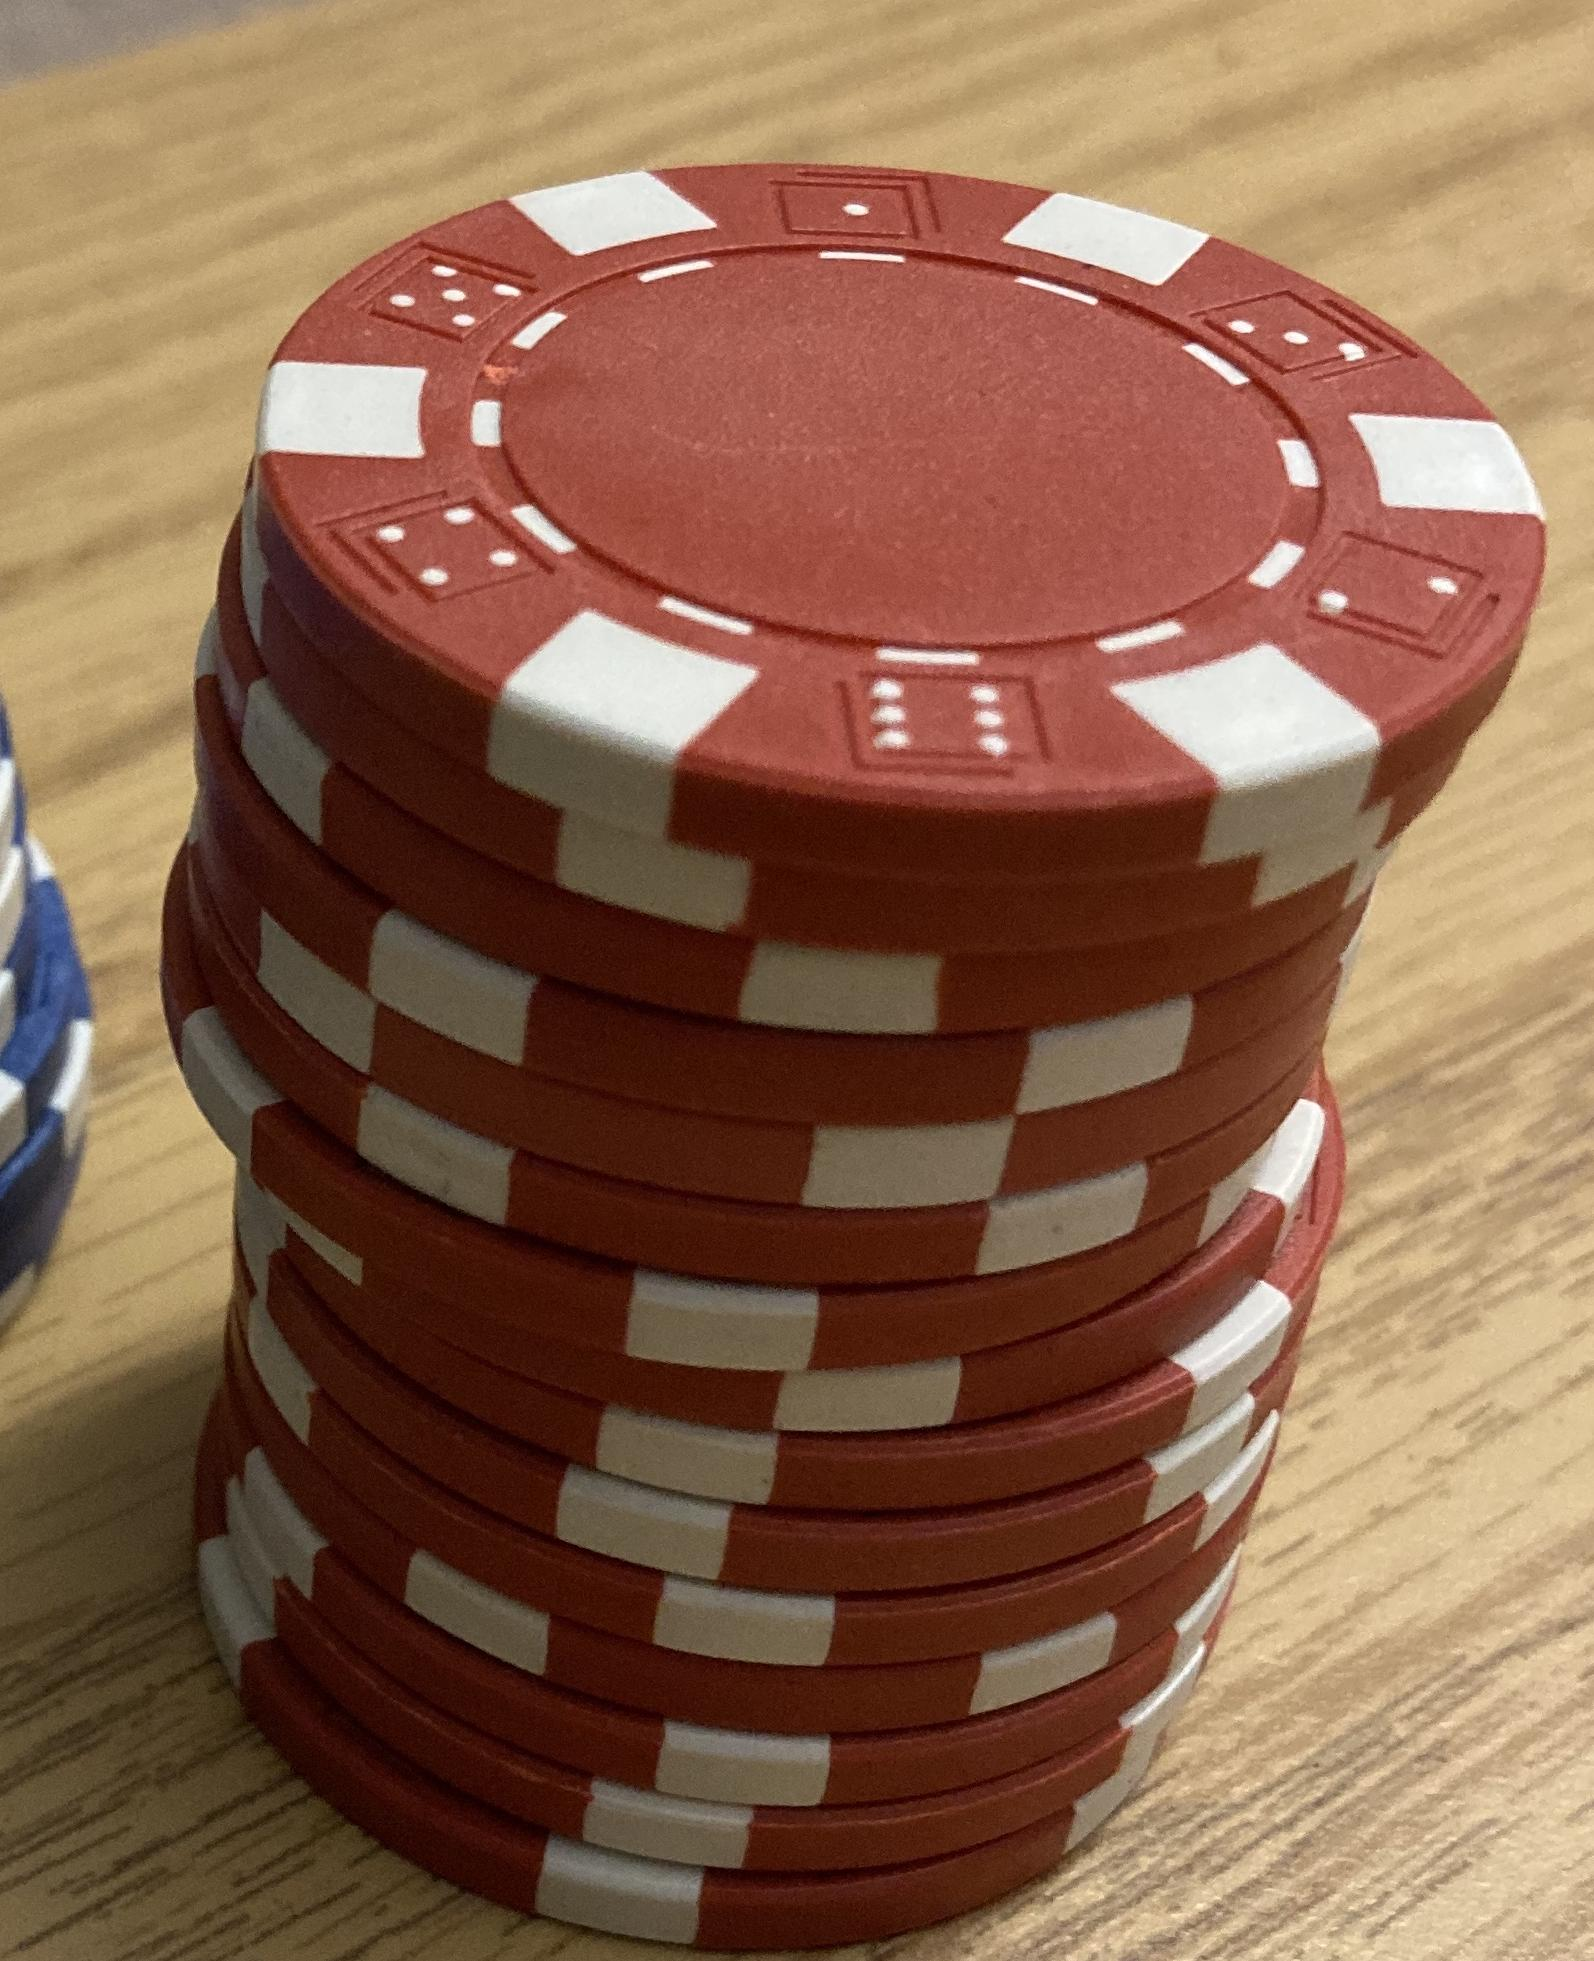Chip: (2, 2, 1594, 1961)
